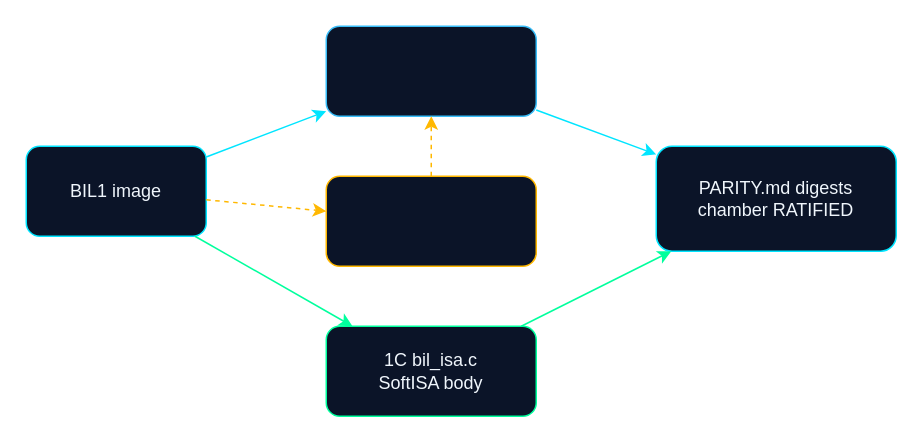
The diagram is 923 pixels wide and 443 high, and some of its shapes have lost their labels. Each missing label, with the box of its shape:
1A isa::Vm oracle: (325, 25, 536, 116)
Host softcpu MMIO wraps Vm: (325, 175, 536, 266)
